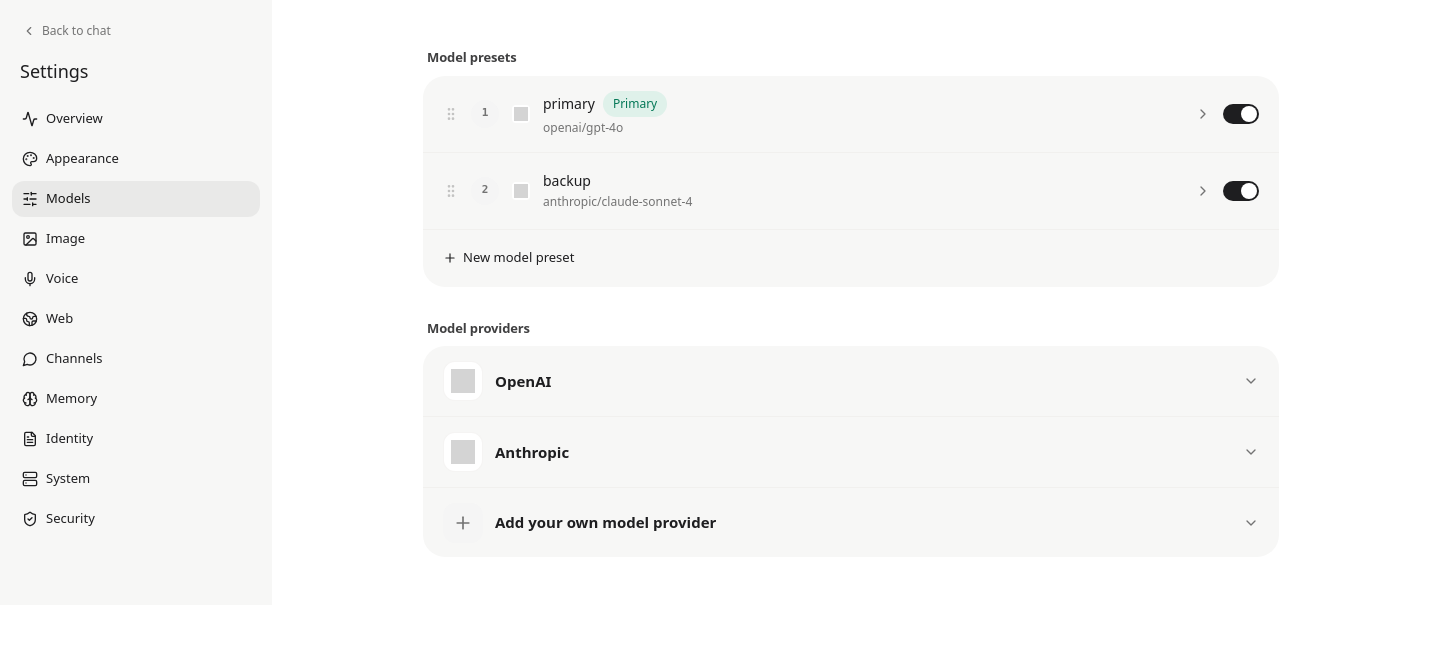
Settings models › shows an inline error when a new preset name already exists
This screenshot has width=1440, height=667.
Click the button "New model preset".
click(519, 257)  # box [423,228,1279,286]
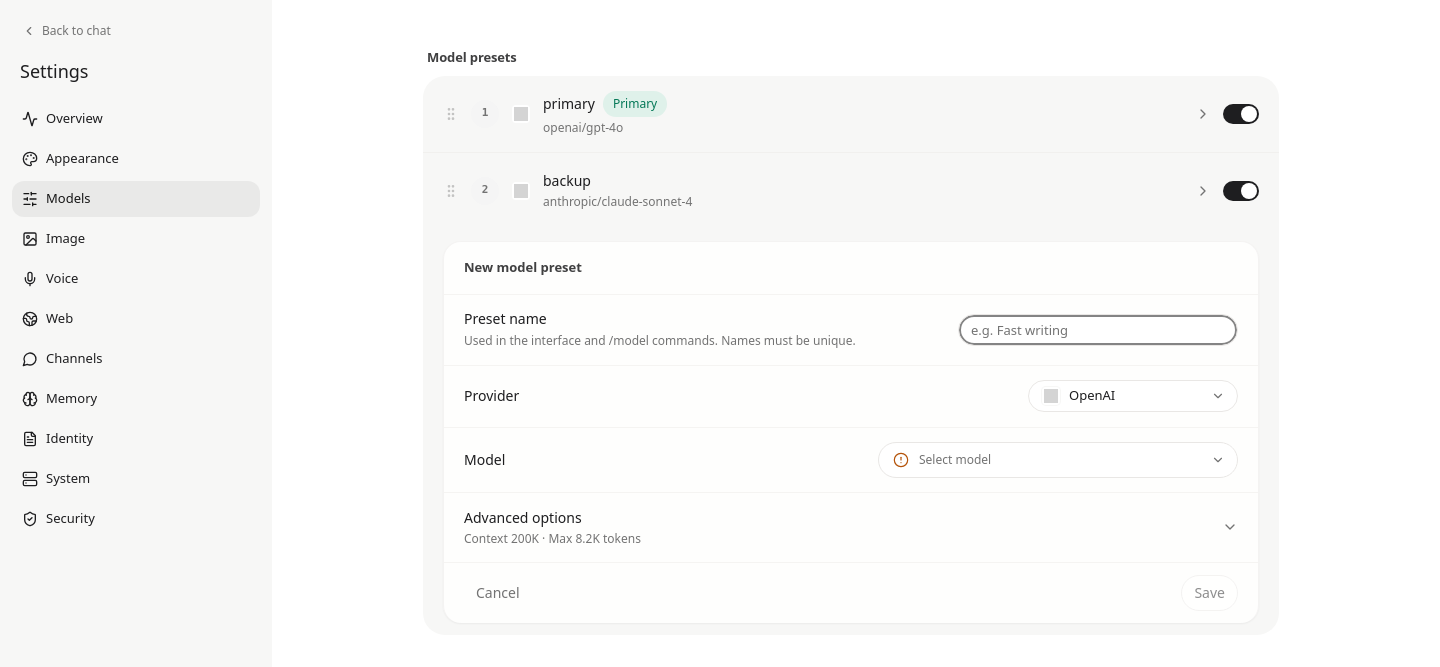
Type "PRIMARY" into the field named "Preset name".
click(1098, 330); type("PRIMARY")  # box [958,314,1238,346]
Click the button "Select model".
click(955, 459)  # box [878,442,1238,478]
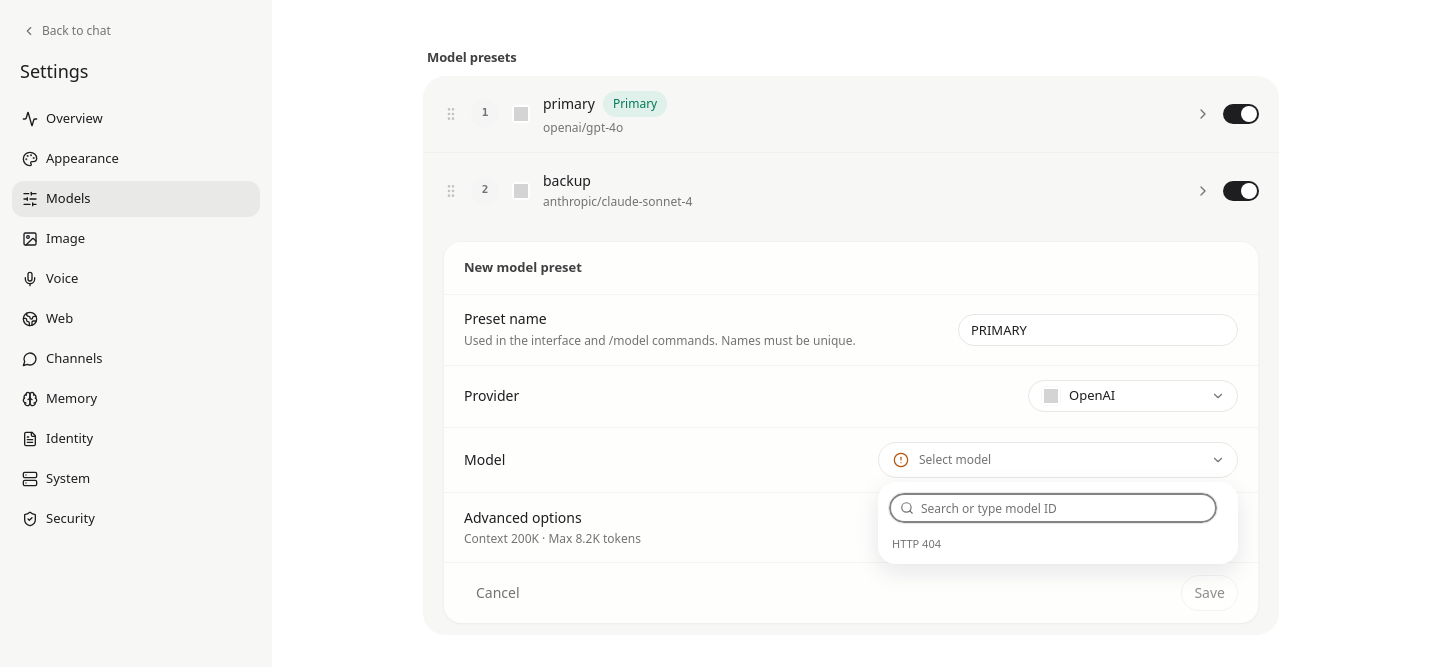
Type "openai/gpt-4o-mini" into the dropdown labelled "Search or type model ID".
click(1053, 508); type("openai/gpt-4o-mini")  # box [888,492,1218,524]
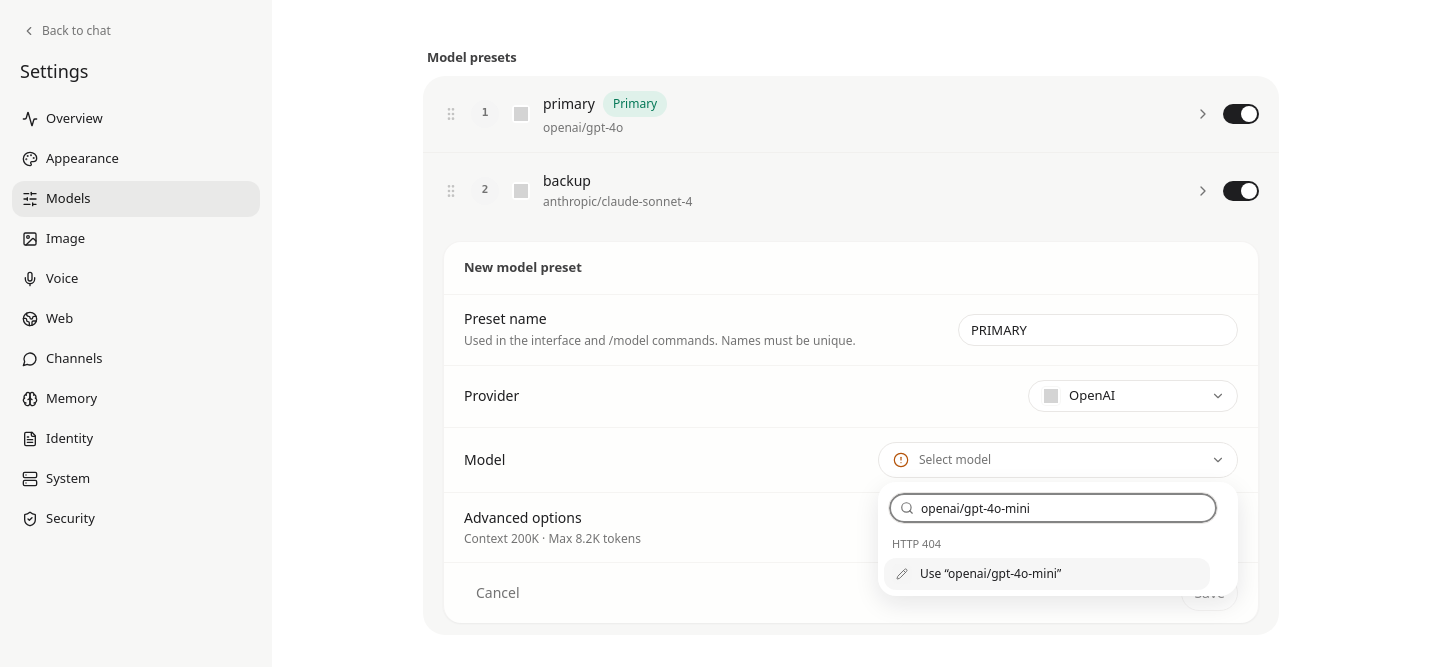
Press Enter in the dropdown named "Search or type model ID", box [888,492,1218,524]
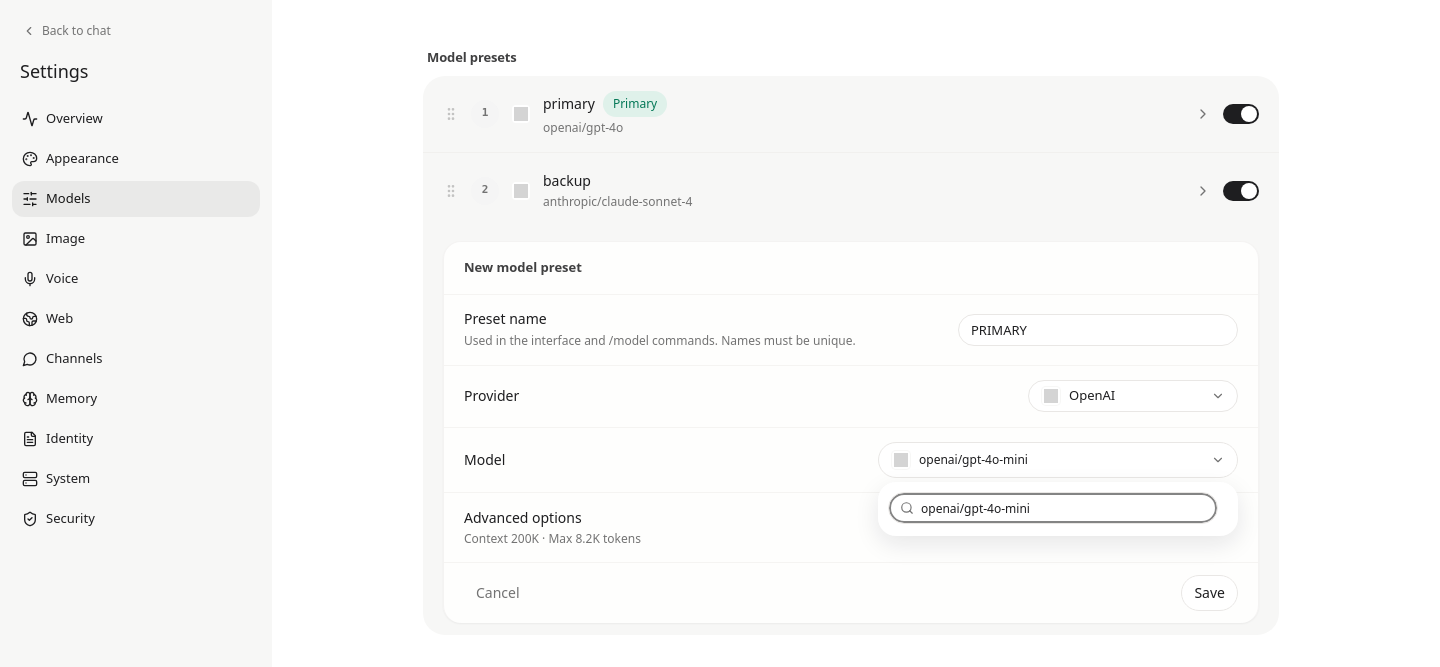
Click the button "Save".
click(1210, 592)  # box [1181,574,1238,610]
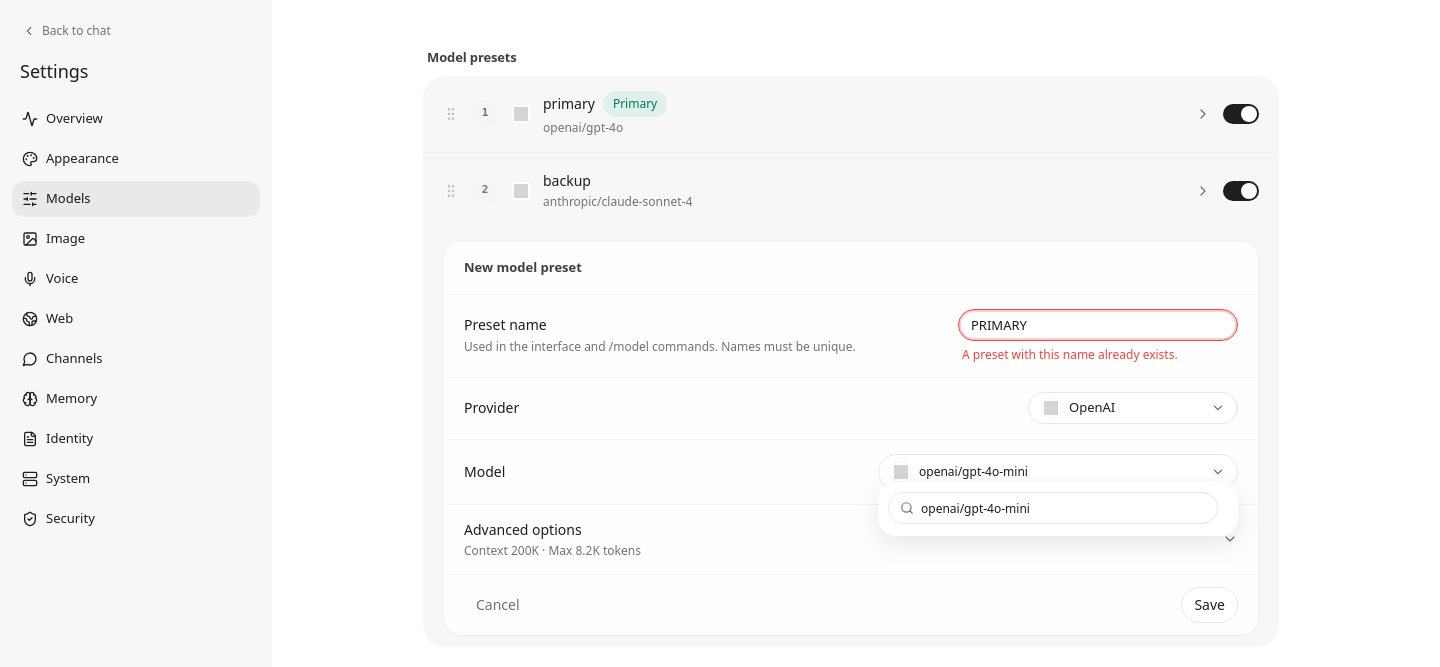
Result: the message reads "A preset with this name already exists." at [962,346,1178,362]
Replace the text in the field named "Preset name" with "Writer" at (1098, 324), box [958,308,1238,340]
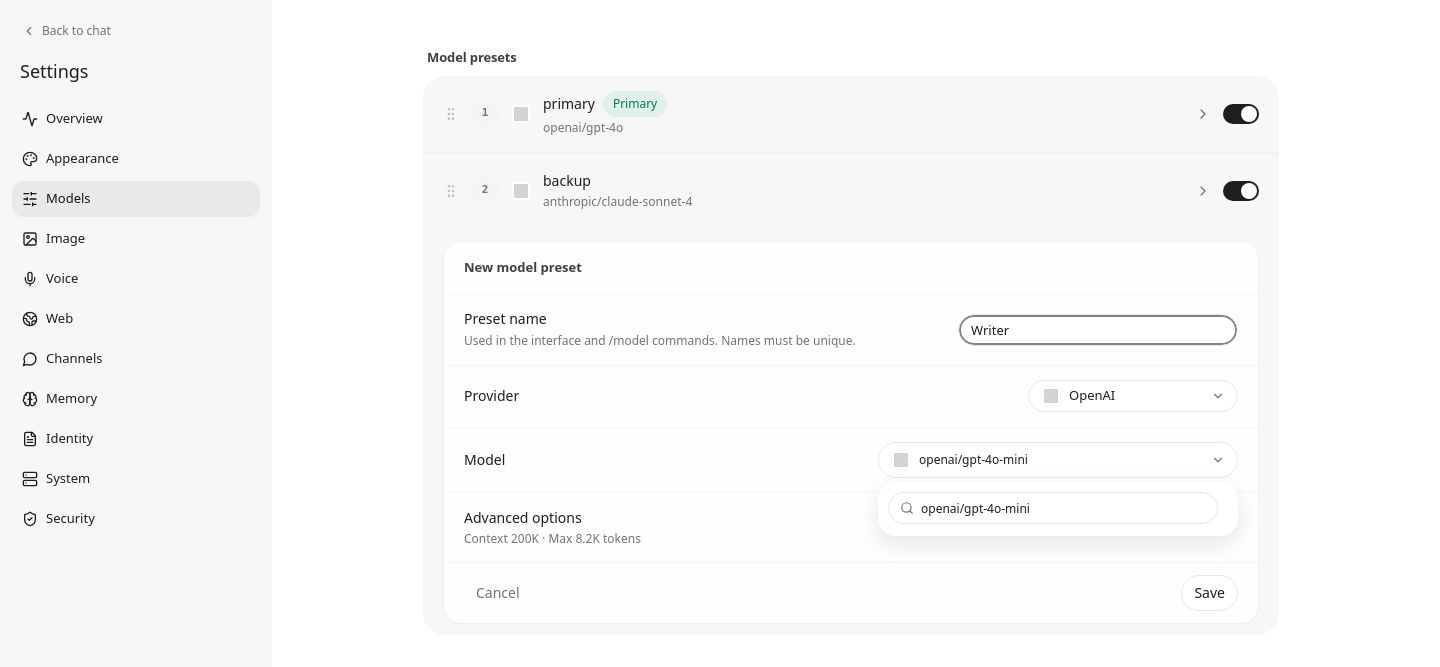
Result: the message "A preset with this name already exists." is gone
